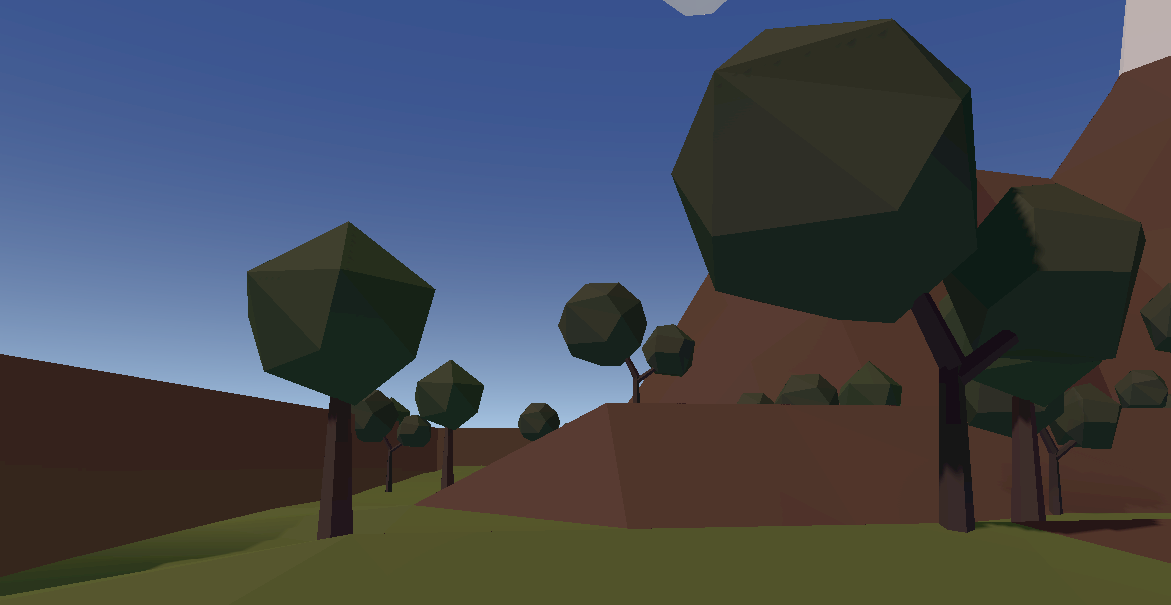tree: (671, 16, 1147, 529), (246, 221, 435, 523), (997, 367, 1135, 530), (557, 281, 696, 402), (348, 388, 432, 496), (416, 357, 491, 476), (778, 360, 904, 403), (511, 403, 569, 439)
